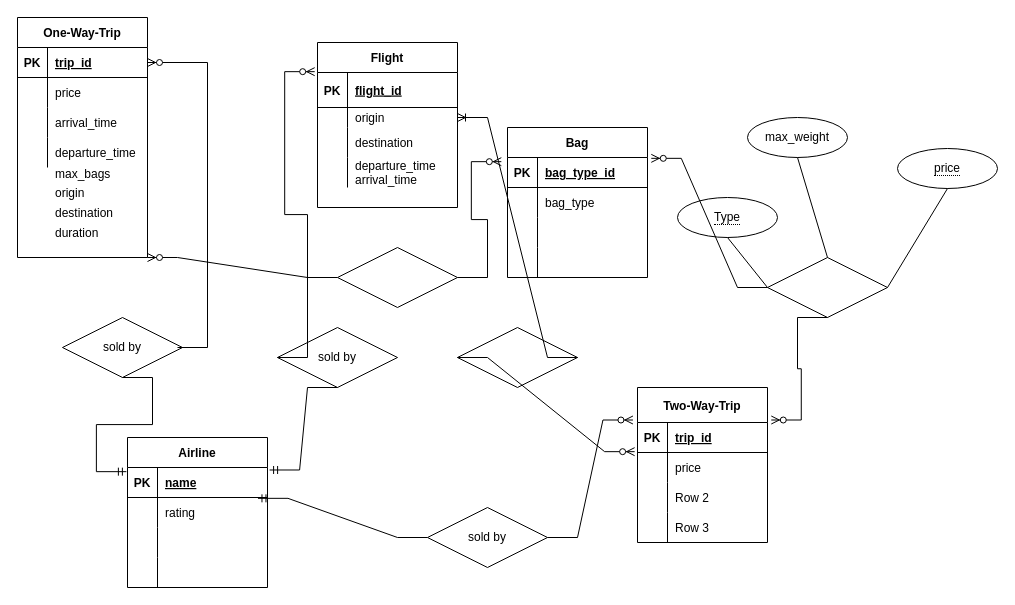
The diagram is 1015 pixels wide and 605 high, and some of its shapes have lost their labels. Here are the shapes that lost their labels. From the top down, the centre of each, then its label:
At [397,277]: "Allowed One Way".
At [827,287]: "Allowed Two Way".
At [517,357]: "has_2".
